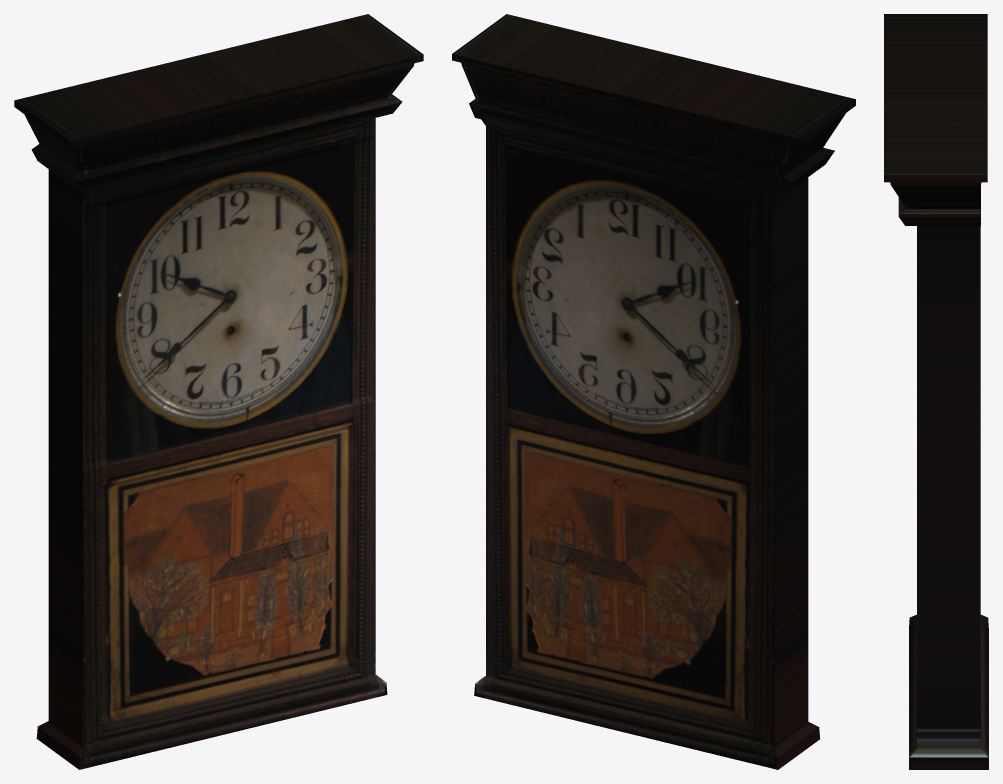
The model's file is Clock1.FBX.
3 renders of one model, left to right at view 1: azimuth 30°, elevation 25°; view 2: azimuth 150°, elevation 25°; view 3: azimuth 270°, elevation 25°, orthographic. The views are drawn at different scales.
Visible parts, largest first — view 1: Box01; view 2: Box01; view 3: Box01.
Boxes of the visible parts, box(x1,y1,x2,y2) form: Box01: box(14, 14, 423, 769); Box01: box(452, 14, 855, 769); Box01: box(884, 14, 988, 769).
Size of the model in its own units: 203 by 353 by 55.41.
1 material, 1 textured.
